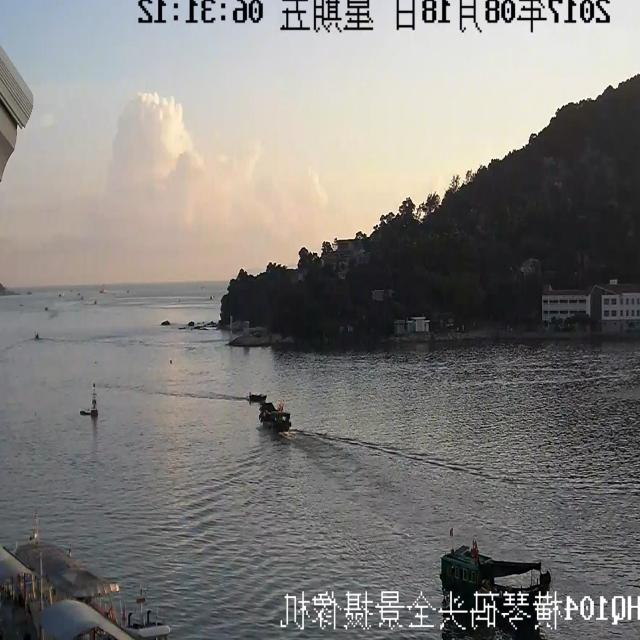buoy: (76, 379, 109, 428)
fishing boat: (424, 529, 562, 619), (256, 384, 291, 430)
reef: (0, 275, 24, 306)
